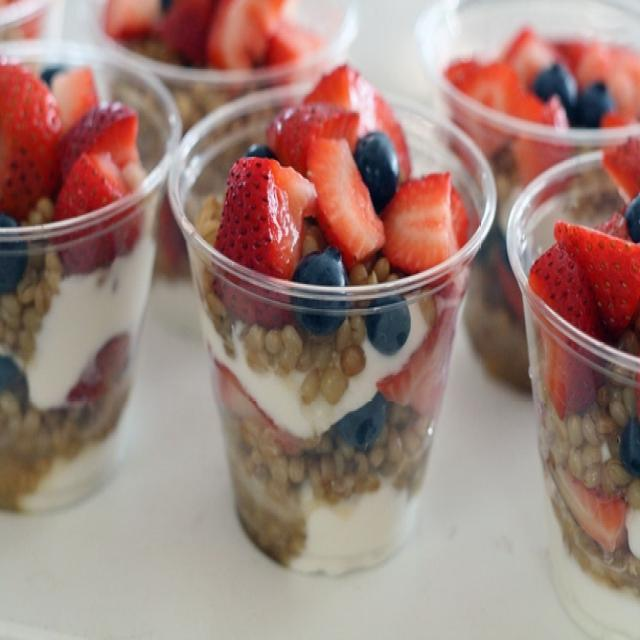蛋糕甜品: (9, 8, 630, 613)
